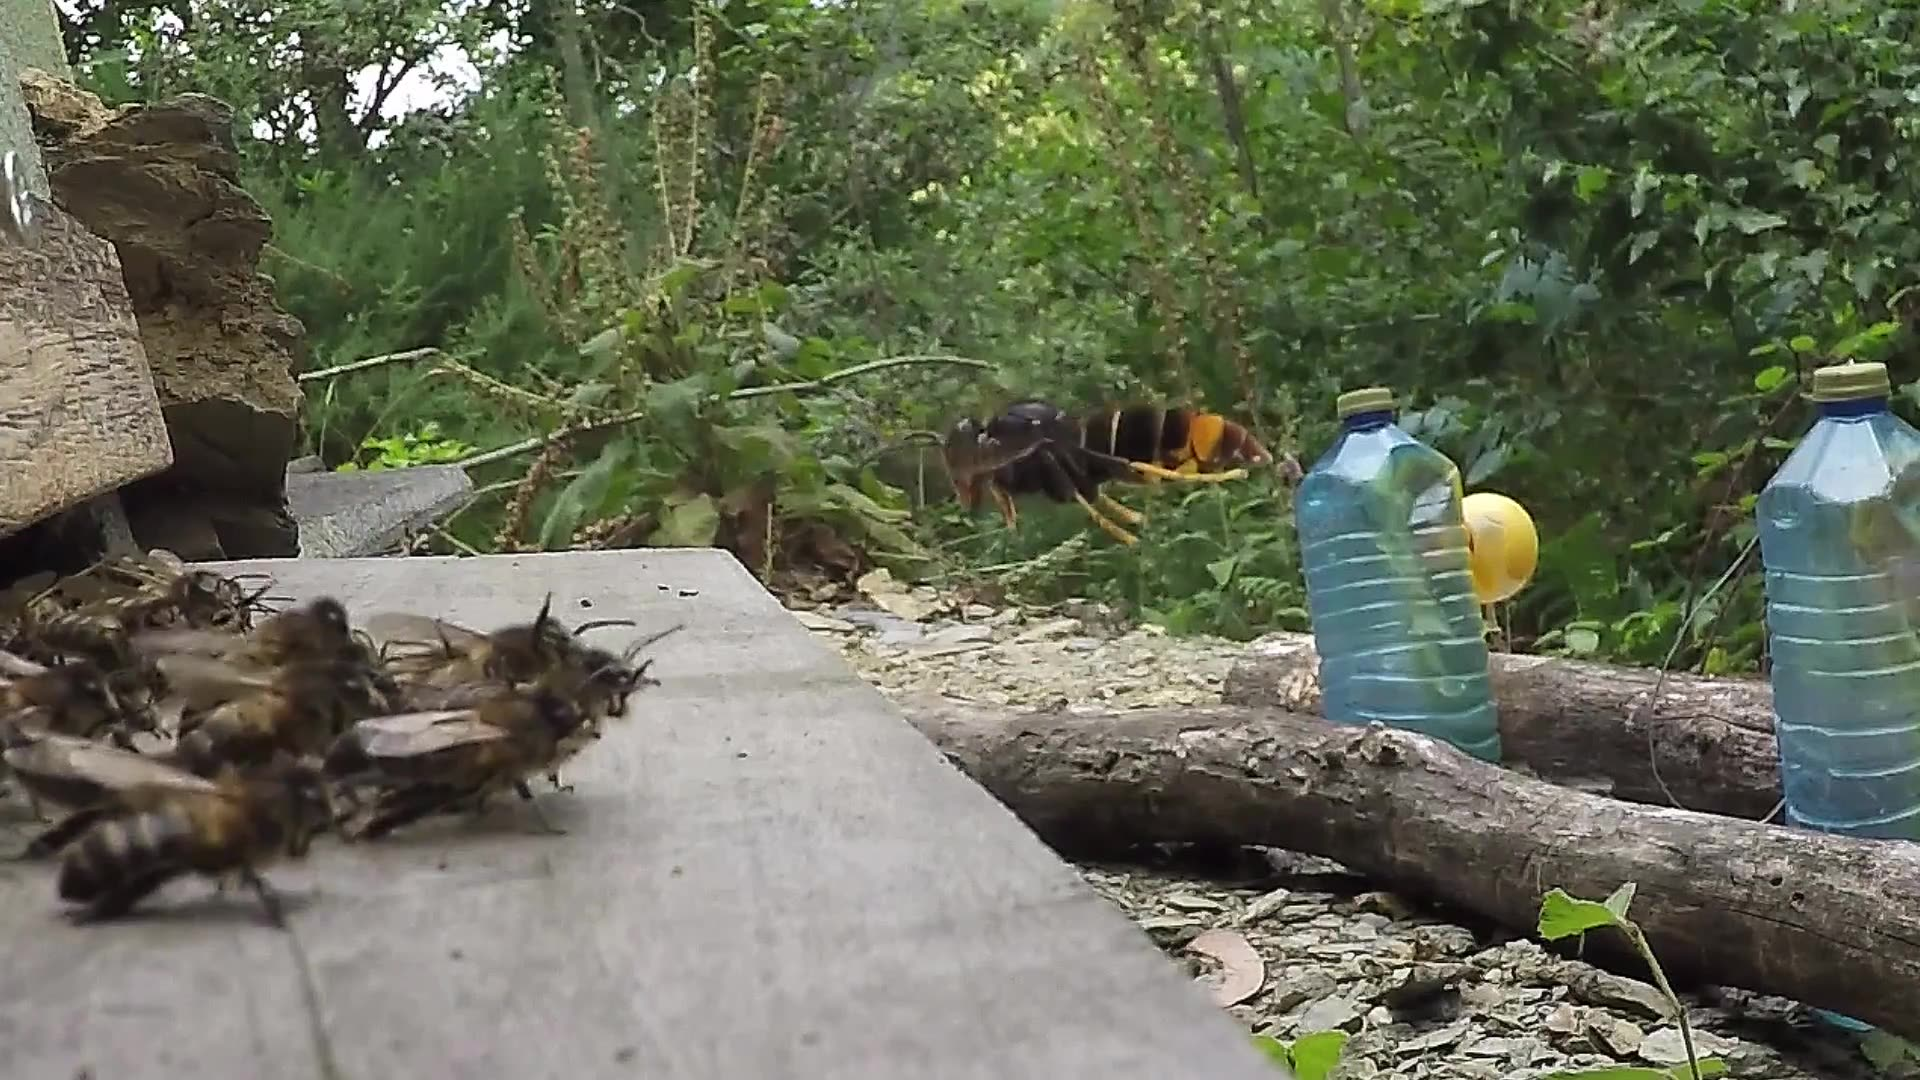bee: (3, 538, 338, 928), (332, 593, 670, 837)
hornet: (901, 371, 1291, 526)
